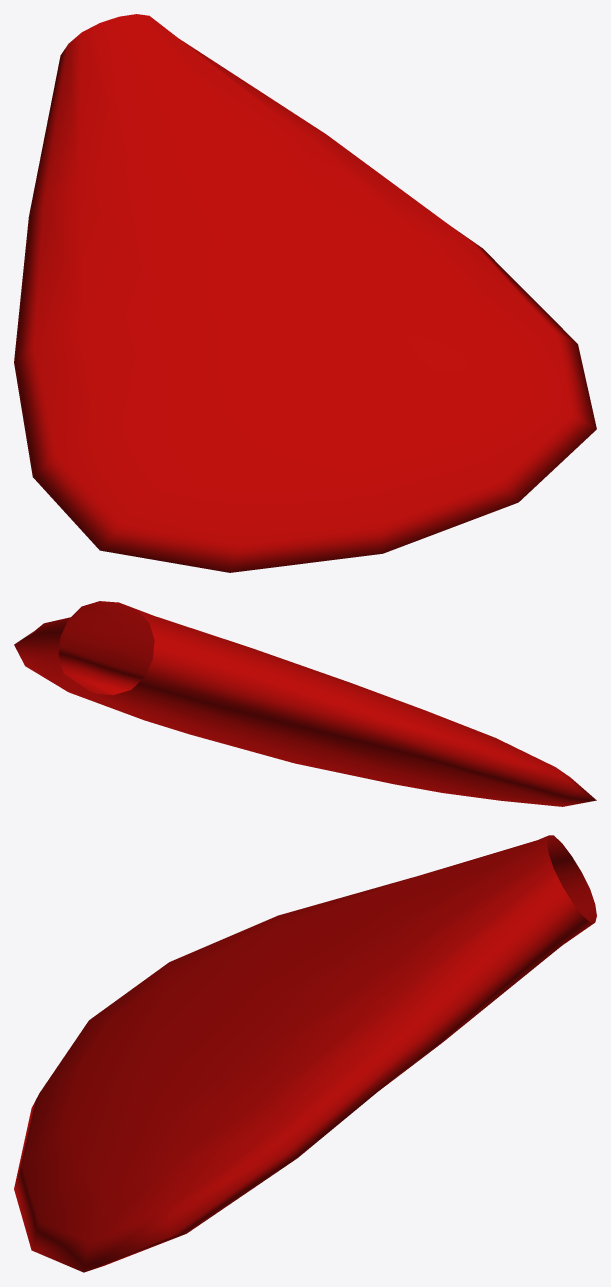
File: fins_fish_red.glb
3 renders of one model, top to bottom at view 1: azimuth 30°, elevation 25°; view 2: azimuth 150°, elevation 25°; view 3: azimuth 270°, elevation 25°, orthographic.
Visible parts, largest first — view 1: polySurface2.001; view 2: polySurface2.001; view 3: polySurface2.001.
Part boxes in pixels (bbox=[...]): polySurface2.001: bbox=[14, 14, 596, 572]; polySurface2.001: bbox=[14, 601, 596, 806]; polySurface2.001: bbox=[14, 835, 596, 1272].
Bounding box in the file's own units: 0.0833 × 0.0508 × 0.0765.
